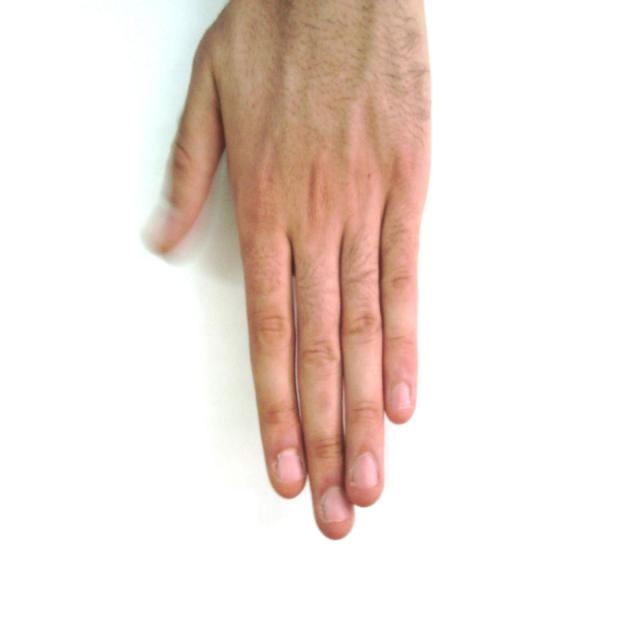others: (142, 1, 466, 544)
